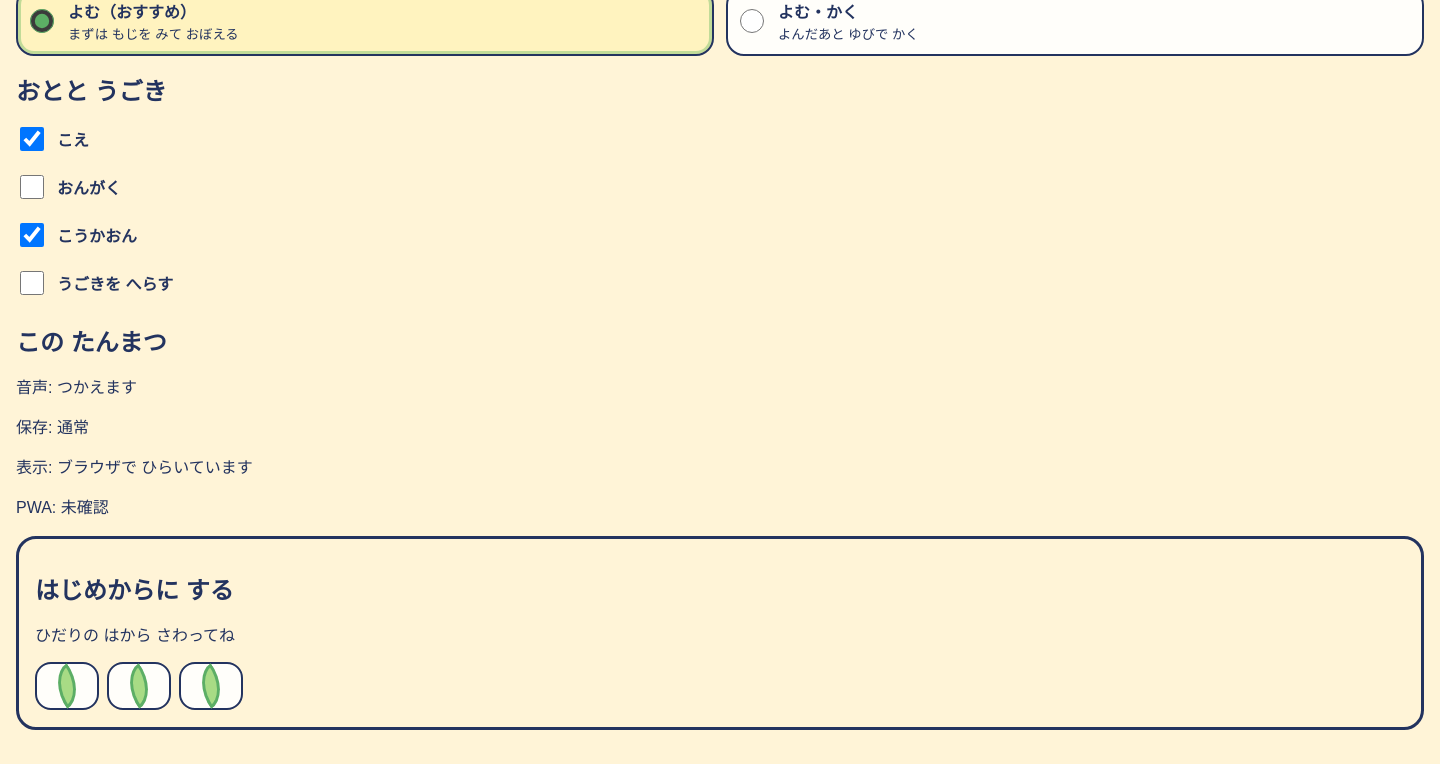
Test: ParentDashboard › reset失敗では進捗を保持し、実行中の二重確認を防ぐ
(page scrolled)
Click the button named "ひだりの は" at (67, 686), box [35,662,99,710]
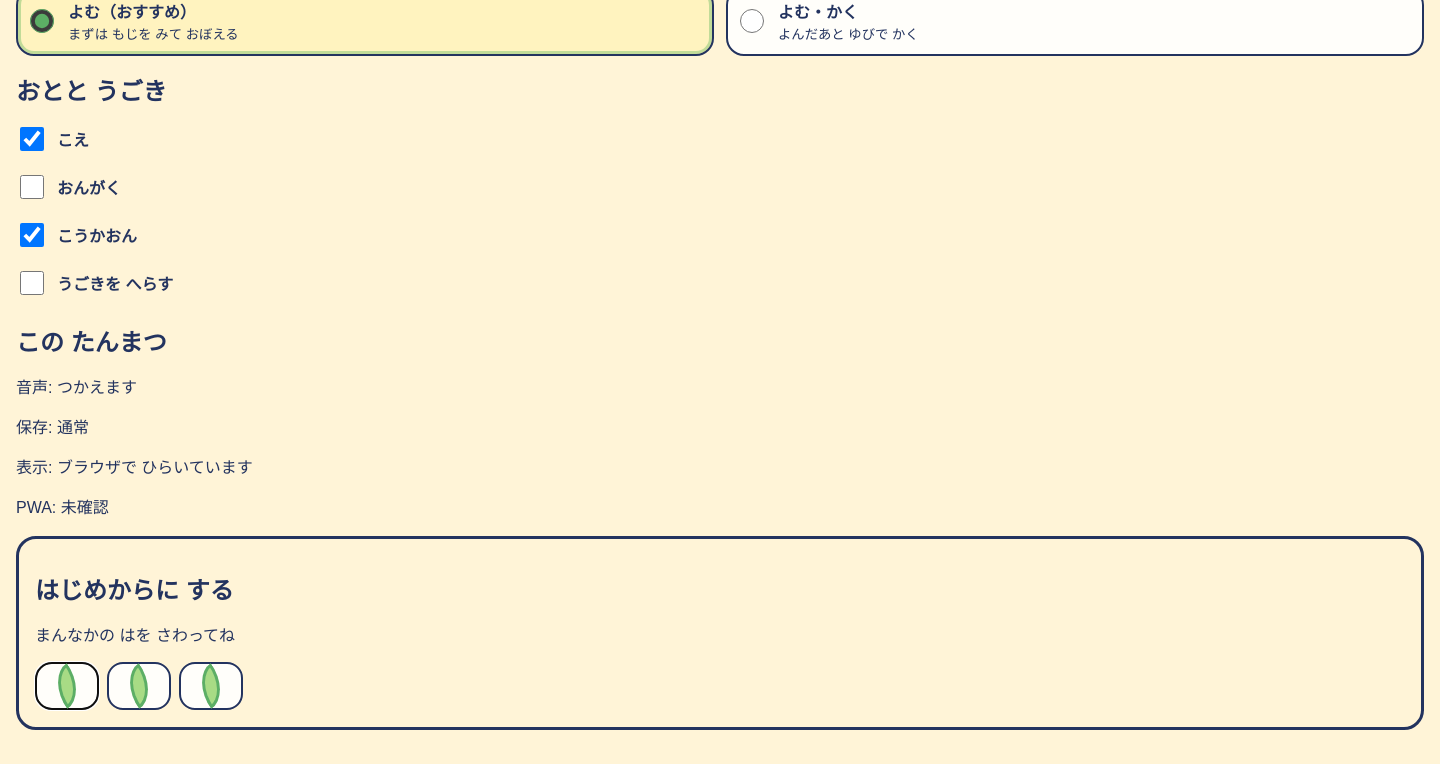
Click the button named "まんなかの は" at (139, 686), box [107,662,171,710]
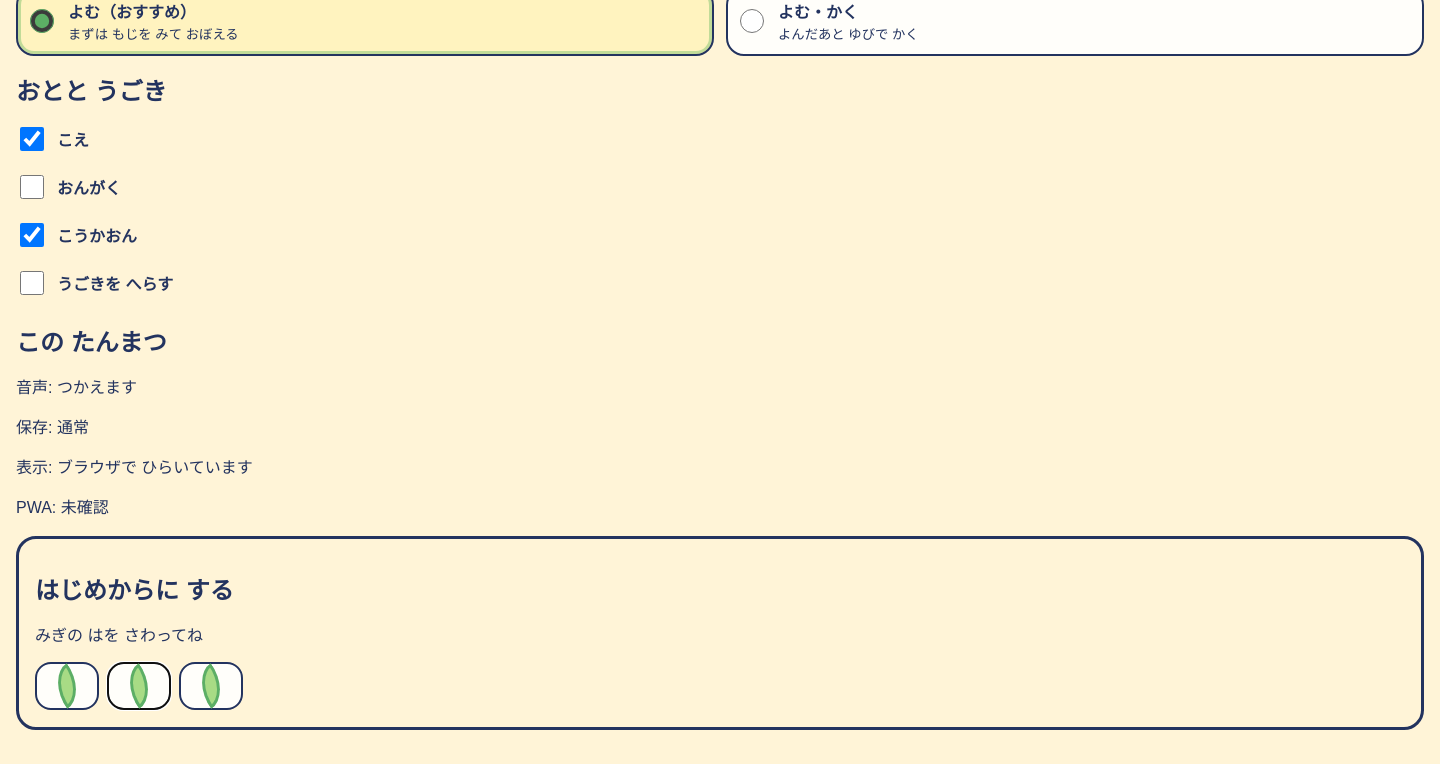
Click the button named "みぎの は" at (211, 686), box [179,662,243,710]
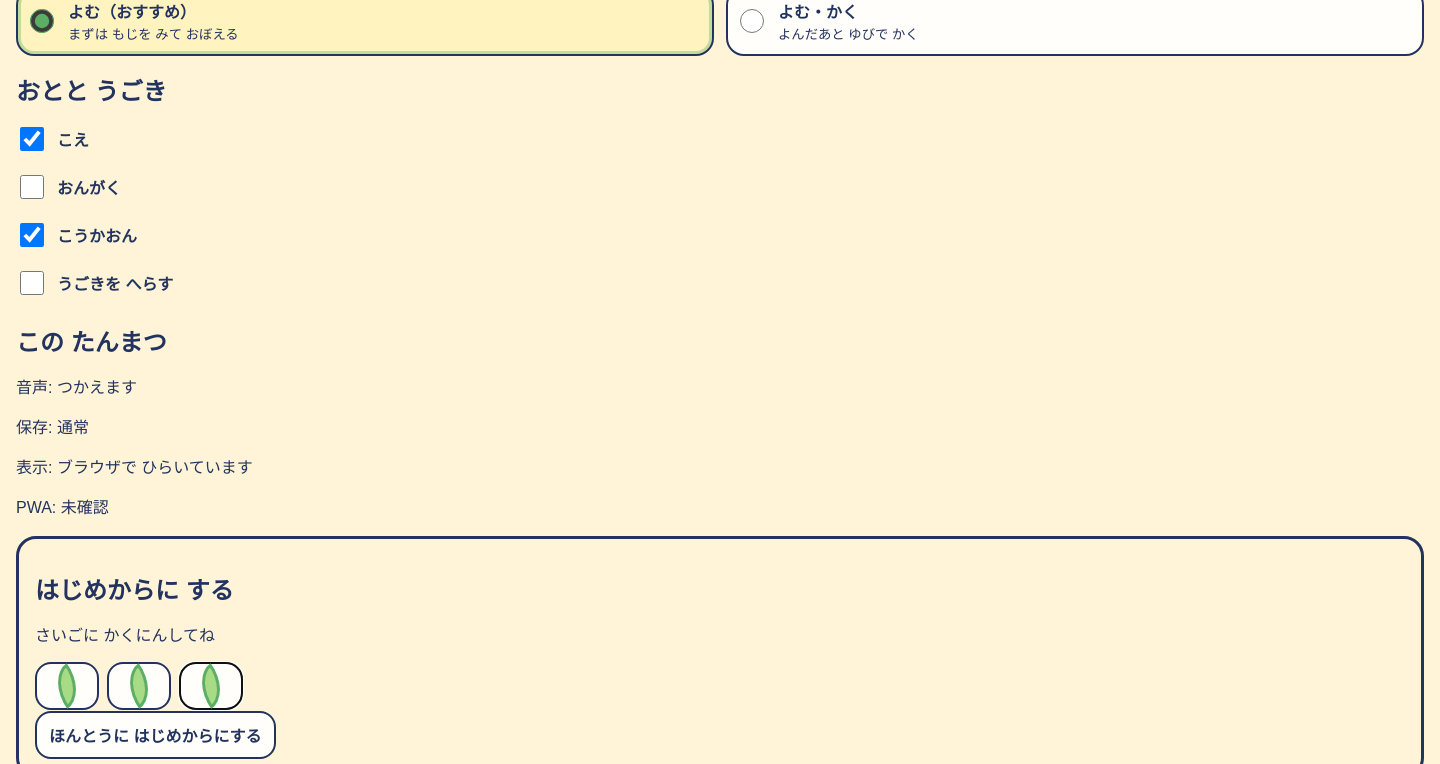
Click the button "ほんとうに はじめからにする" at (155, 735), box [35,711,276,759]
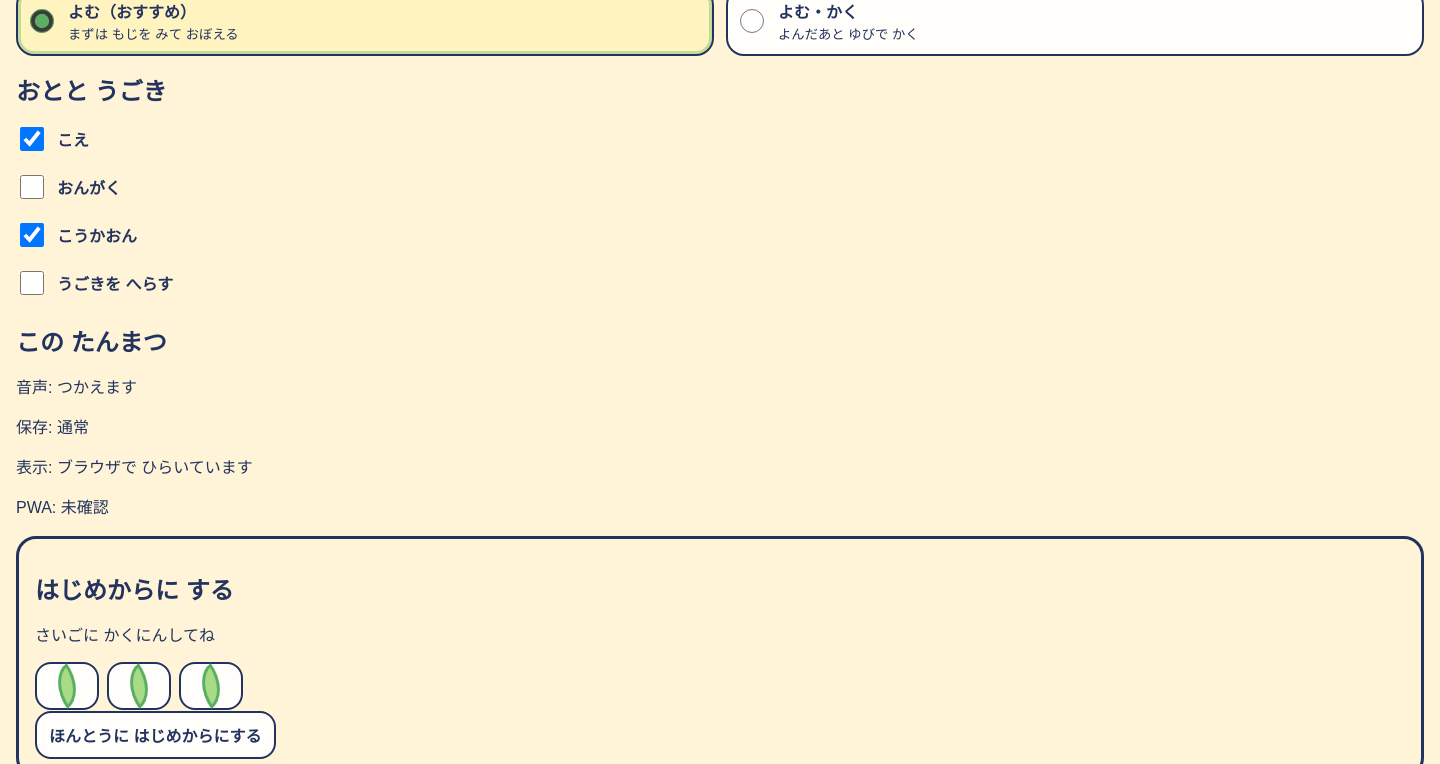
Click the button "ほんとうに はじめからにする" at (155, 735), box [35,711,276,759]
(page scrolled)
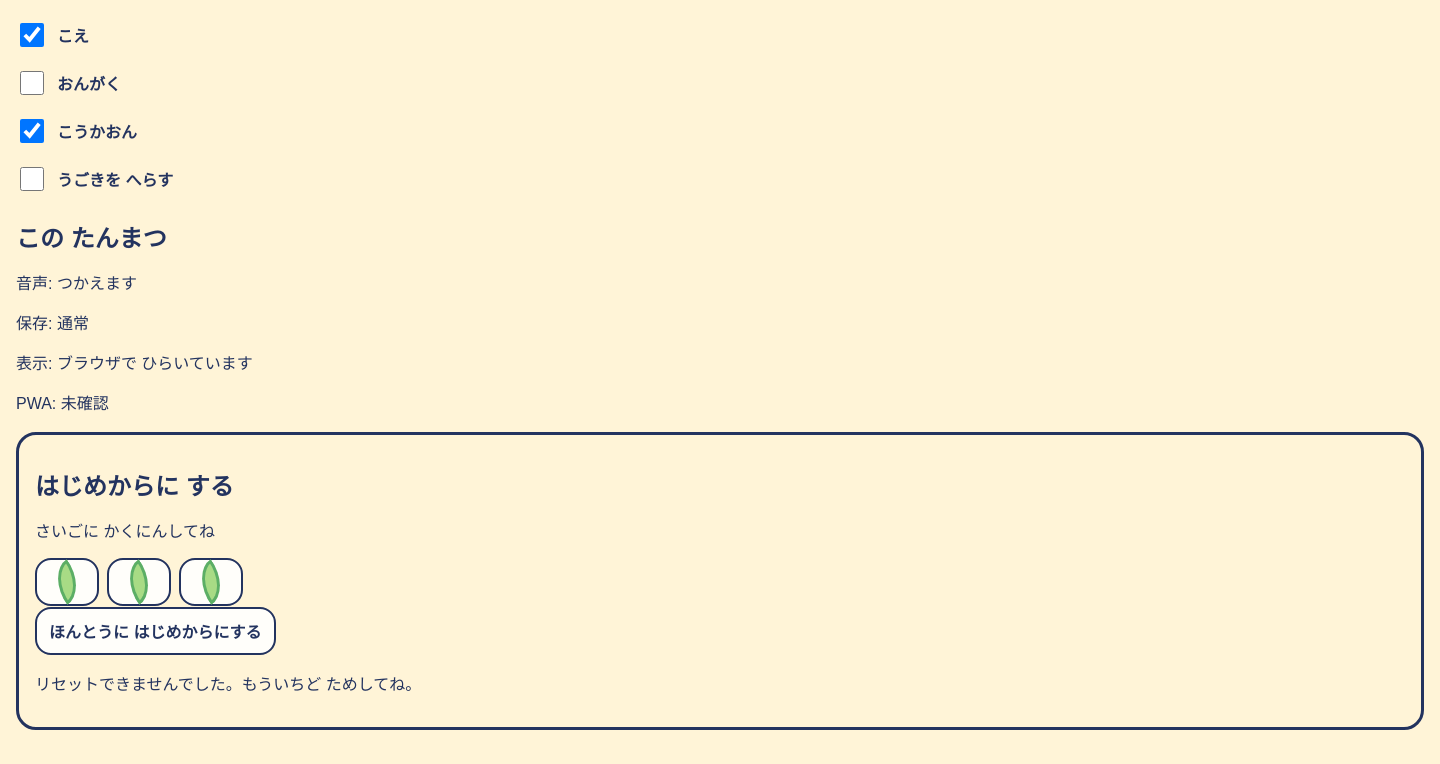
expect the message shows "リセットできませんでした": met, box [35,676,421,693]
